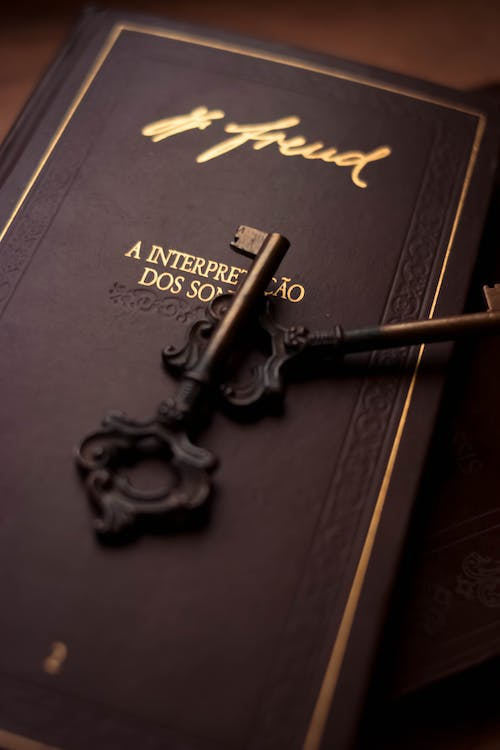key: (73, 224, 292, 551), (160, 281, 500, 428)
